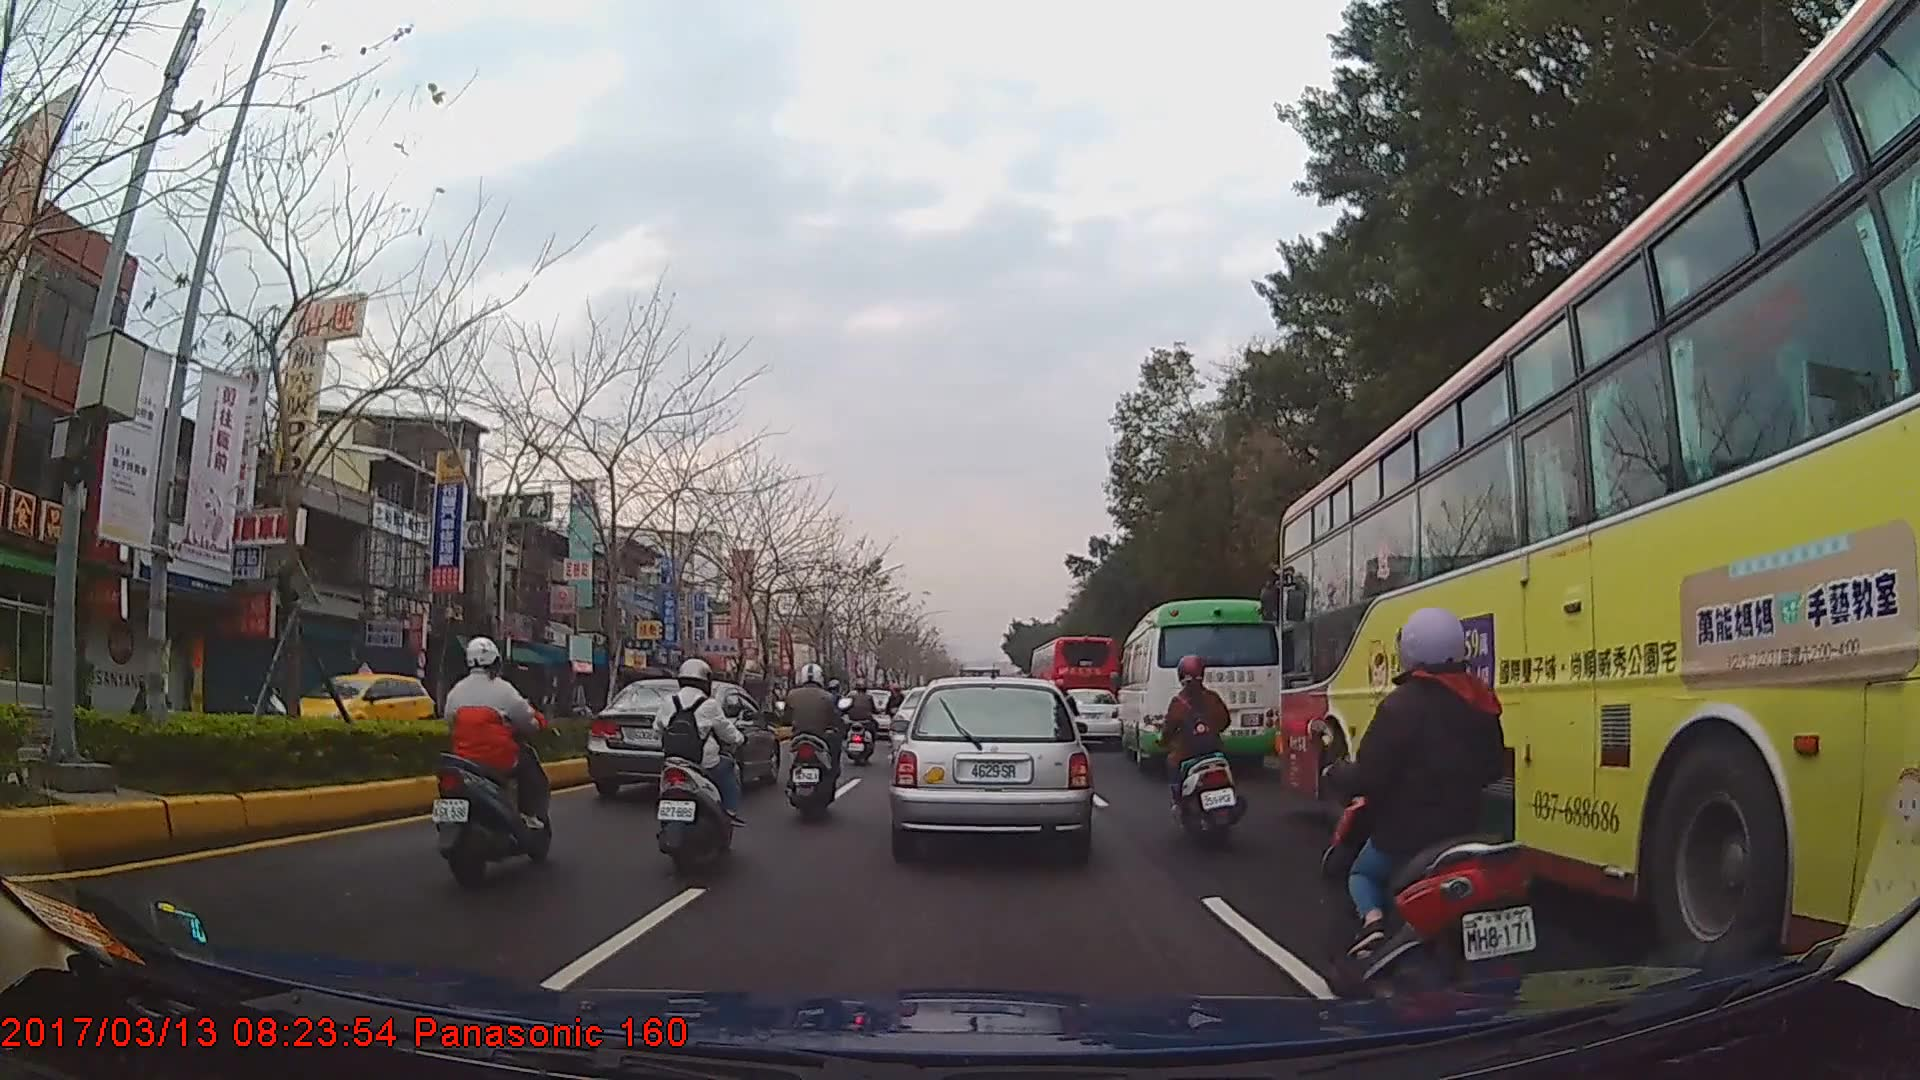rider: (1335, 603, 1537, 1003), (431, 635, 552, 890), (654, 657, 743, 876), (1155, 653, 1243, 844), (779, 665, 850, 820), (844, 679, 882, 768), (825, 679, 851, 731), (885, 681, 907, 735)
vehicle: (1272, 0, 1920, 1007), (890, 673, 1090, 858), (1115, 596, 1284, 773), (582, 677, 781, 799), (282, 656, 438, 748), (1029, 633, 1115, 741), (1050, 686, 1122, 745)
